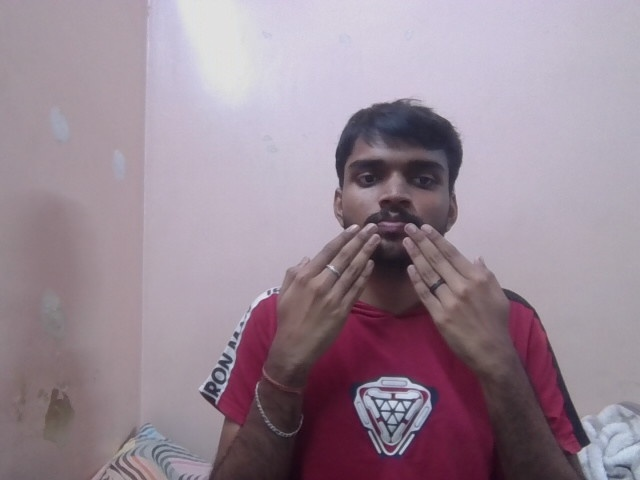Thank You: (266, 221, 526, 364)
